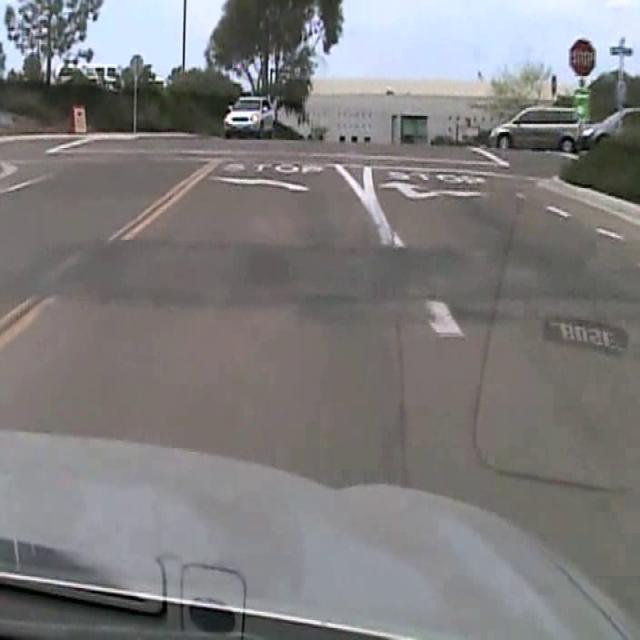stop_sign: (568, 37, 596, 76)
